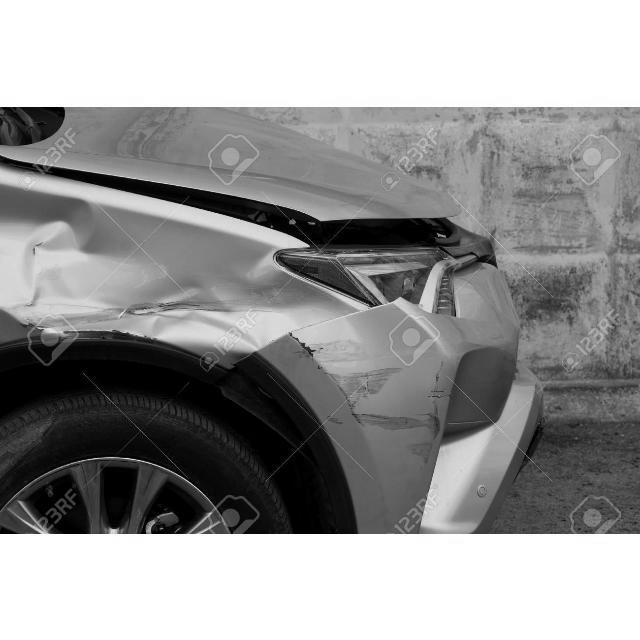Headlight-damage: (270, 221, 495, 328)
fender-dent: (1, 199, 320, 363)
front-bumper-dent: (280, 302, 553, 531)
